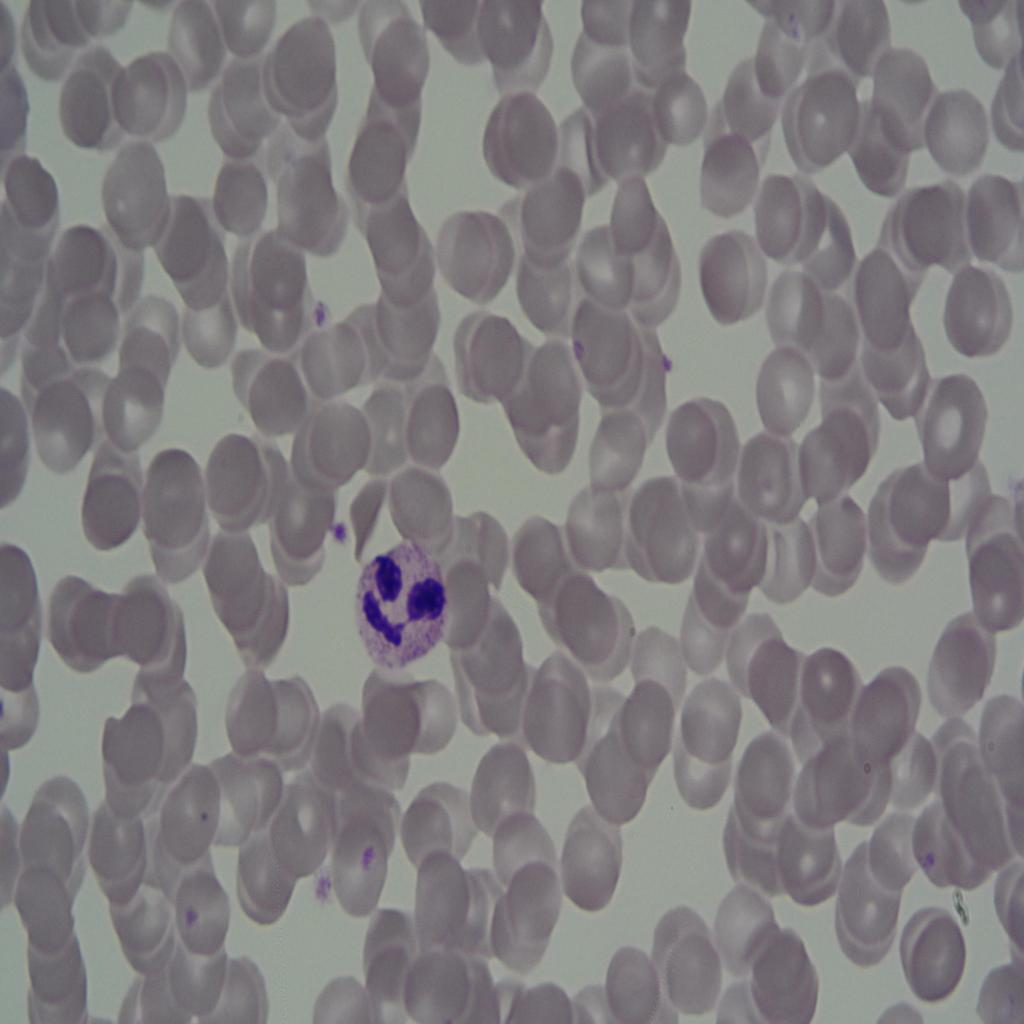Neutrofil: (354, 545, 456, 684)
Platelet: (568, 332, 590, 374), (301, 297, 330, 328), (325, 516, 347, 551), (658, 346, 680, 374)
